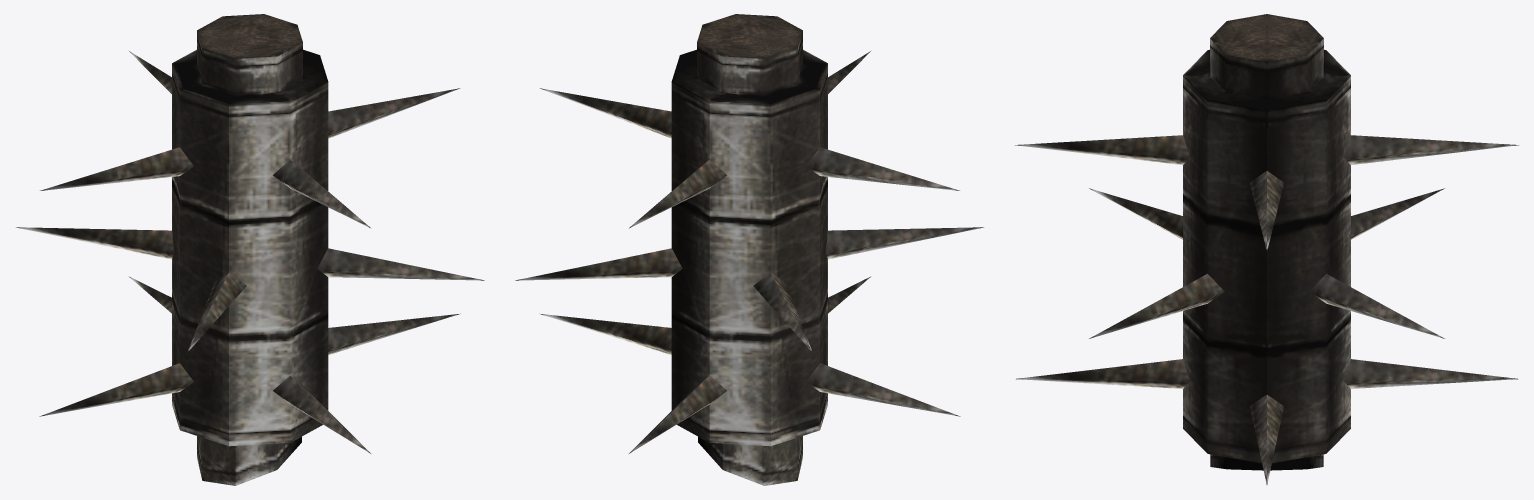
File: Dingtoubang_body.FBX
3 renders of one model, left to right at view 1: azimuth 30°, elevation 25°; view 2: azimuth 150°, elevation 25°; view 3: azimuth 270°, elevation 25°, orthographic. The views are drawn at different scales.
Visible parts, largest first — view 1: Dingtoubang_body; view 2: Dingtoubang_body; view 3: Dingtoubang_body.
Part boxes in pixels (box(x1,y1,x2,y2)): Dingtoubang_body: box(16, 14, 484, 485); Dingtoubang_body: box(515, 14, 983, 485); Dingtoubang_body: box(1015, 14, 1518, 484).
Size of the model in its own units: 26.88 by 26.31 by 26.88.
Materials: 1 (1 with a texture image).
